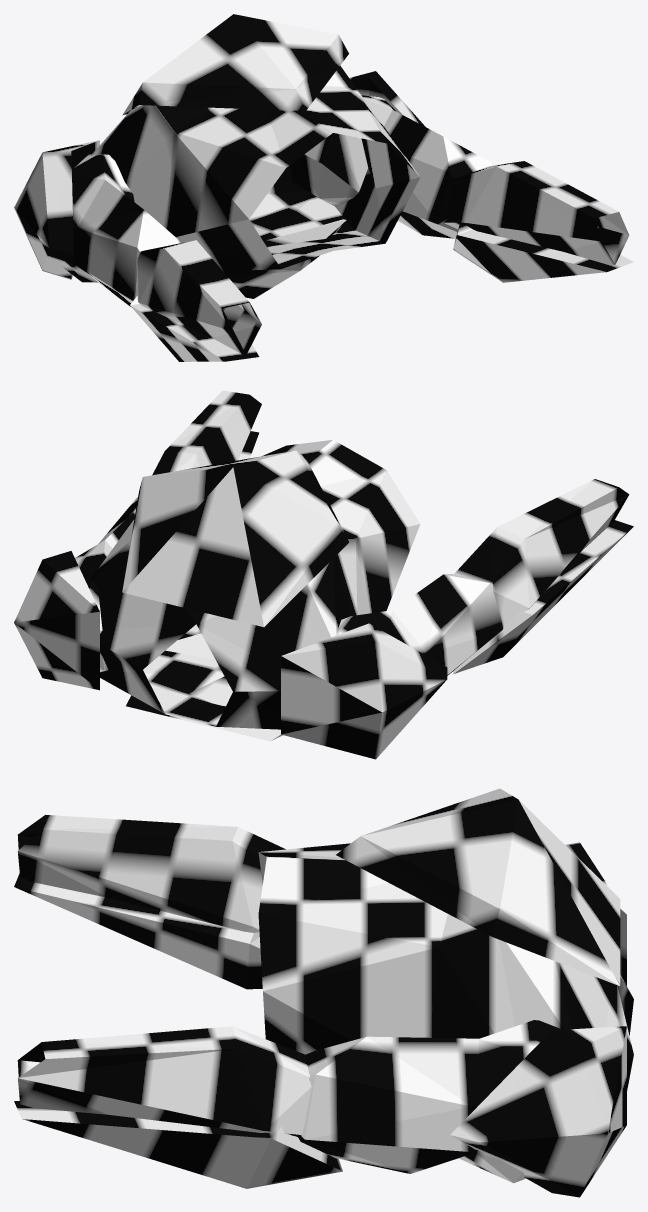
File: initarpl13.dae
3 renders of one model, top to bottom at view 1: azimuth 30°, elevation 25°; view 2: azimuth 150°, elevation 25°; view 3: azimuth 270°, elevation 25°, orthographic. The views are drawn at different scales.
Visible parts, largest first — view 1: armor; view 2: armor; view 3: armor.
Part boxes in pixels (<box>): armor: <box>14,14,633,361</box>; armor: <box>14,390,633,759</box>; armor: <box>14,788,633,1197</box>.
Size of the model in its own units: 1.49 by 1.56 by 0.9464.
1 material, 1 textured.
